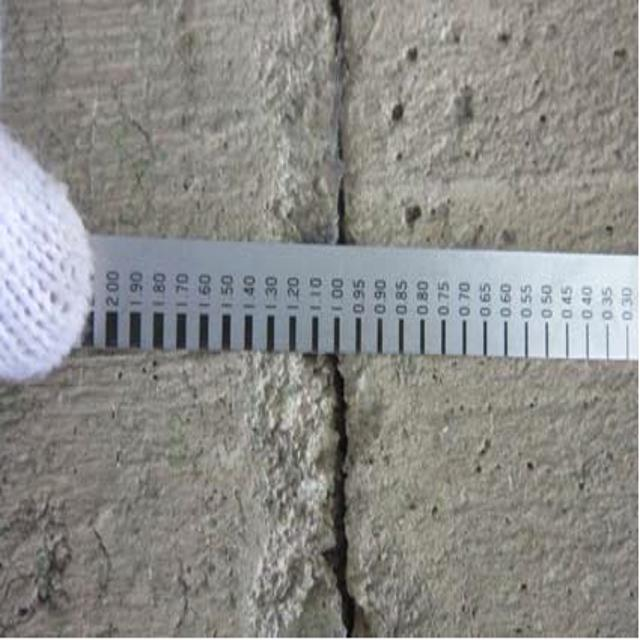crack: (253, 354, 393, 637), (280, 16, 366, 246)
